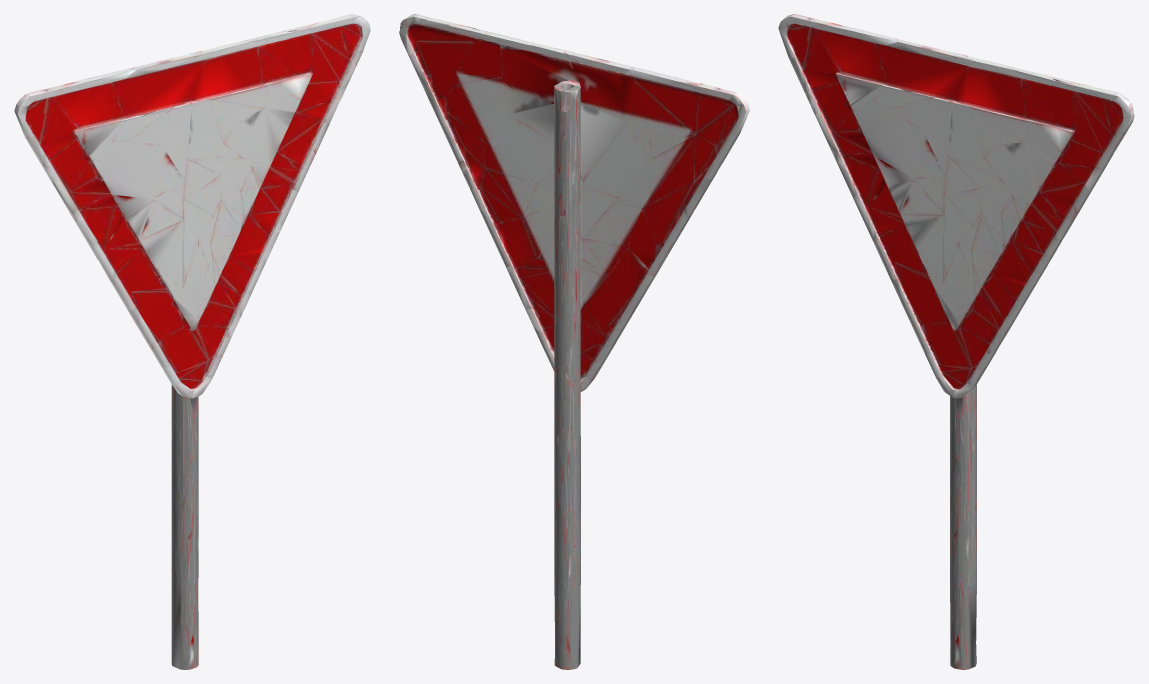
Rendered from cede.glb.
3 renders of one model, left to right at view 1: azimuth 30°, elevation 25°; view 2: azimuth 150°, elevation 25°; view 3: azimuth 330°, elevation 25°, orthographic.
Size of the model in its own units: 1.14 by 1.9 by 0.0881.
1 material, 1 textured.
